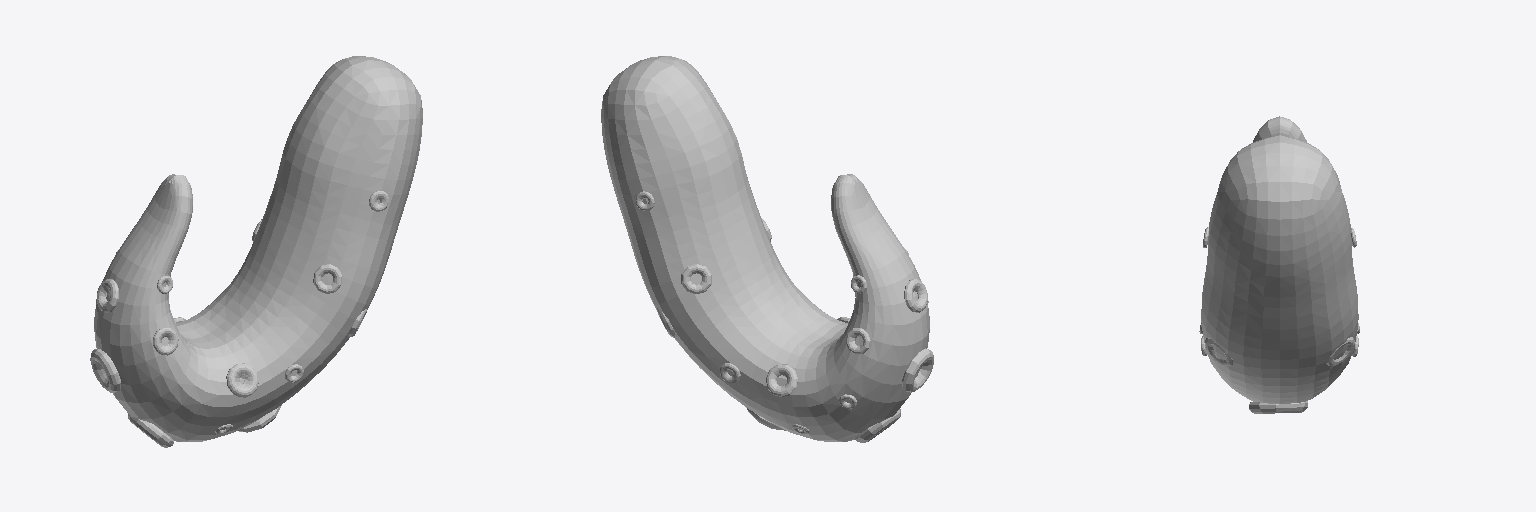
File: Tentacle.obj
3 views of the same model, side by side, from view 1: azimuth 30°, elevation 25°; view 2: azimuth 150°, elevation 25°; view 3: azimuth 270°, elevation 25° (orthographic).
Parts seen in each view (by area): view 1: Group21593; view 2: Group21593; view 3: Group21593.
Part boxes in pixels (x1,y1,x2,y2): Group21593: (90,56,422,447); Group21593: (601,56,933,442); Group21593: (1199,116,1359,413).
Size of the model in its own units: 3.51 by 3.53 by 1.53.